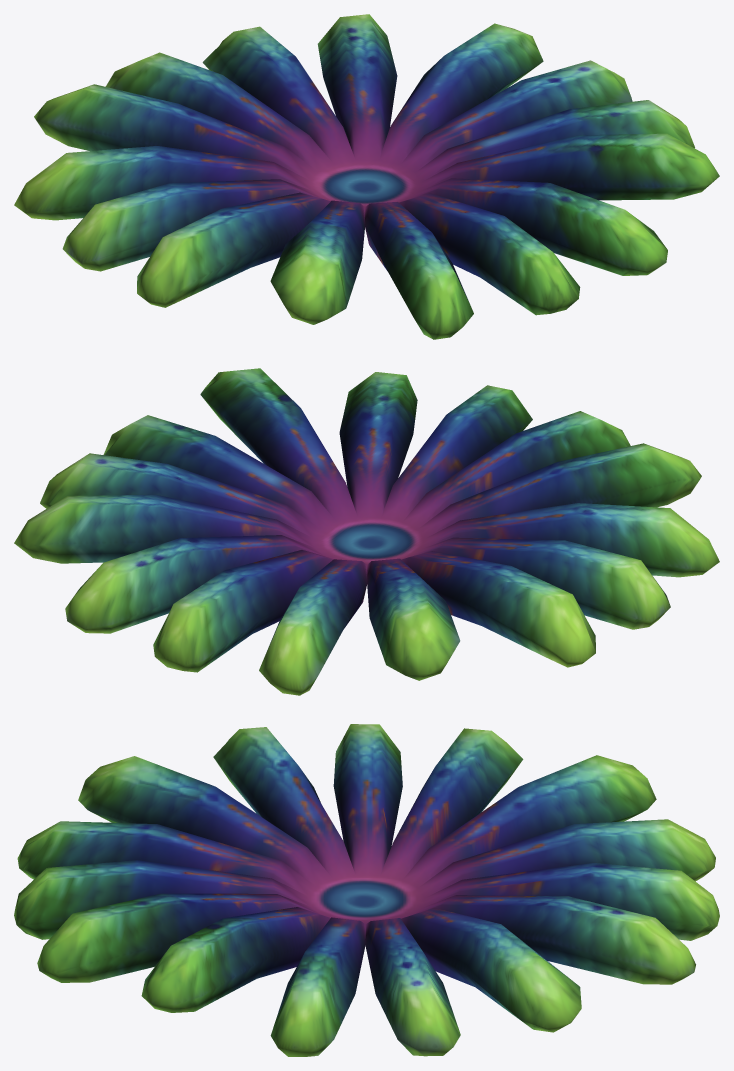
File: Coral_40a.FBX
3 renders of one model, top to bottom at view 1: azimuth 30°, elevation 25°; view 2: azimuth 150°, elevation 25°; view 3: azimuth 270°, elevation 25°, orthographic. The views are drawn at different scales.
Visible parts, largest first — view 1: Coral_40a; view 2: Coral_40a; view 3: Coral_40a.
Boxes of the visible parts, x1=… form: Coral_40a: x1=14, y1=14, x2=719, y2=339; Coral_40a: x1=14, y1=368, x2=719, y2=695; Coral_40a: x1=14, y1=724, x2=719, y2=1056.
Size of the model in its own units: 66.42 by 8.88 by 66.73.
